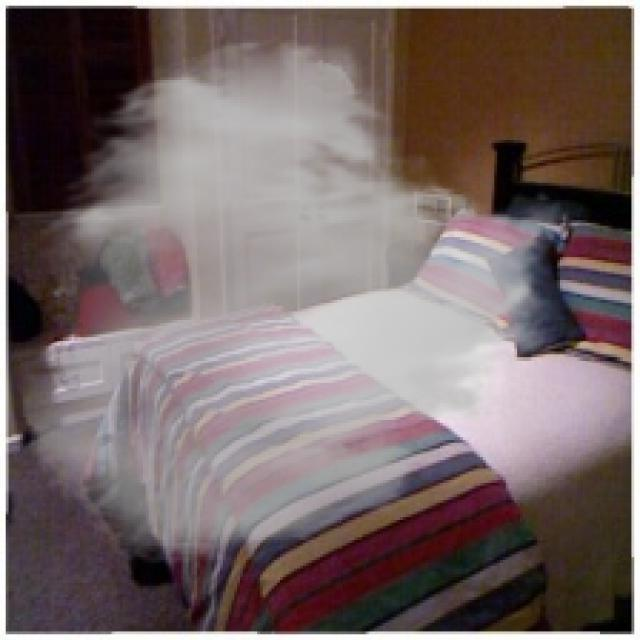Smoke: (17, 34, 572, 569)
